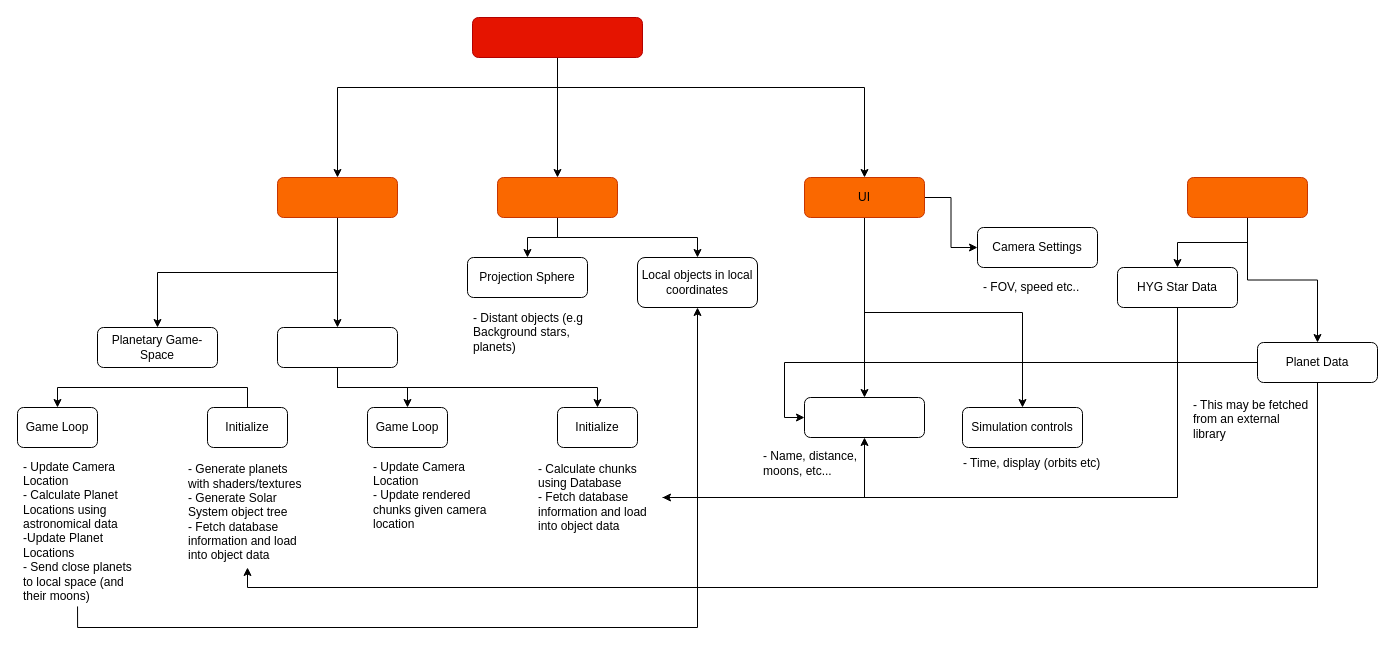
This 1395x653 diagram has some shape labels left out. Here are the shapes that lost their labels. From the top down, the centre of each, then its label:
At point 557,37: "Program".
At point 337,197: "Game-Space".
At point 557,197: "Local-Space".
At point 1247,197: "Database".
At point 337,347: "Interstellar Game-Space".
At point 864,417: "Display data for selected object".
